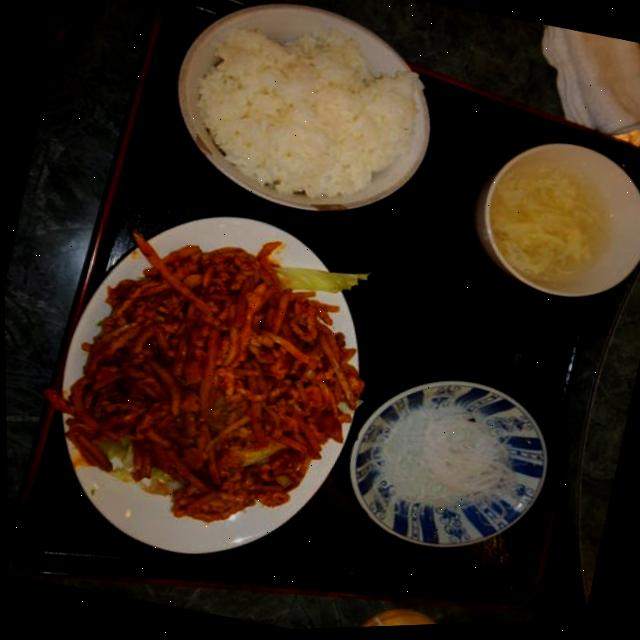汤锅炖物: (449, 115, 640, 331)
米饭主食: (151, 0, 452, 246)
